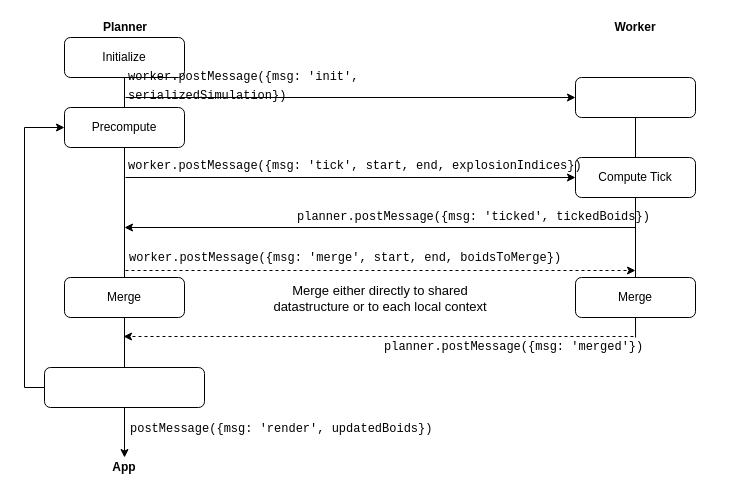
The diagram is 750 pixels wide and 494 high, and some of its shapes have lost their labels. Each missing label, with the box of its shape:
Create local simulation: (574, 76, 696, 118)
readyForNextTick = true;: (44, 366, 204, 408)
